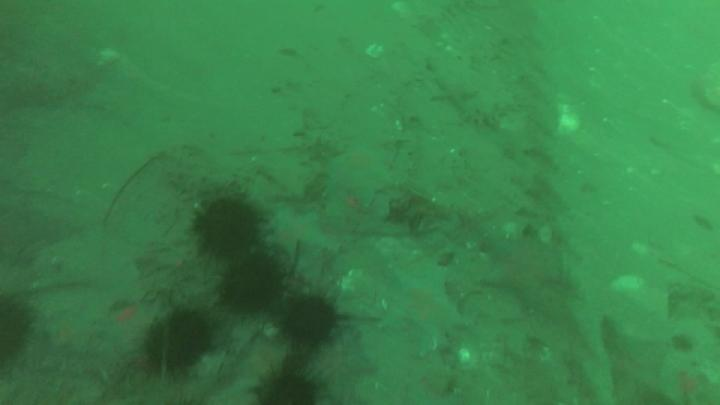echinus: (144, 310, 212, 368), (195, 197, 261, 256), (218, 253, 287, 309), (283, 295, 335, 344), (1, 299, 29, 362), (256, 377, 316, 405)
scallop: (552, 96, 583, 141), (366, 44, 385, 61)
starfish: (378, 271, 469, 357), (485, 232, 564, 314), (303, 326, 374, 405), (333, 144, 393, 206), (44, 315, 94, 355)
